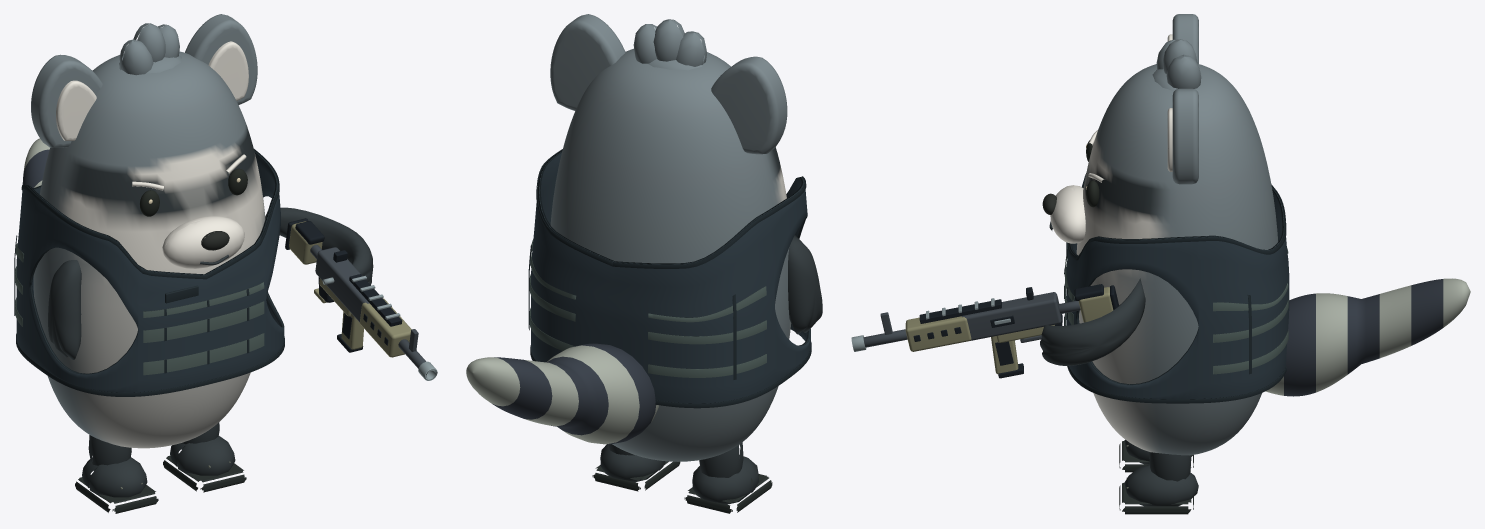
File: fitted-species-raccoon-ready-preview.glb
3 renders of one model, left to right at view 1: azimuth 30°, elevation 25°; view 2: azimuth 150°, elevation 25°; view 3: azimuth 270°, elevation 25°, orthographic. The views are drawn at different scales.
Visible parts, largest first — view 1: raccoon_ready_after_raccoon_torso_mesh, raccoon_ready_after_raccoon_vest_refined_mesh, raccoon_ready_after_raccoon_leftEar_mesh, raccoon_ready_after_raccoon_leftFoot_mesh, raccoon_ready_after_raccoon_rightEar_mesh, raccoon_ready_after_raccoon_snout_mesh, raccoon_ready_after_raccoon_rightFoot_mesh, raccoon_ready_after_prop_m4_m4 painted furniture, raccoon_ready_after_raccoon_leftArm_mesh, raccoon_ready_after_raccoon_crestShort_mesh, raccoon_ready_after_prop_m4_Cerakote graphite, raccoon_ready_after_raccoon_rightArm_mesh (+3 smaller); view 2: raccoon_ready_after_raccoon_torso_mesh, raccoon_ready_after_raccoon_vest_refined_mesh, raccoon_ready_after_raccoon_tail_mesh, raccoon_ready_after_raccoon_leftEar_mesh, raccoon_ready_after_raccoon_rightEar_mesh, raccoon_ready_after_raccoon_leftFoot_mesh, raccoon_ready_after_raccoon_crestShort_mesh, raccoon_ready_after_raccoon_leftArm_mesh, raccoon_ready_after_raccoon_rightFoot_mesh; view 3: raccoon_ready_after_raccoon_torso_mesh, raccoon_ready_after_raccoon_vest_refined_mesh, raccoon_ready_after_raccoon_tail_mesh, raccoon_ready_after_raccoon_rightArm_mesh, raccoon_ready_after_raccoon_rightFoot_mesh, raccoon_ready_after_prop_m4_Cerakote graphite, raccoon_ready_after_prop_m4_m4 painted furniture, raccoon_ready_after_raccoon_rightEar_mesh, raccoon_ready_after_prop_m4_Recesses and rubber, raccoon_ready_after_raccoon_crestShort_mesh, raccoon_ready_after_raccoon_snout_mesh, raccoon_ready_after_raccoon_leftEar_mesh (+1 smaller).
Part boxes in pixels (bbox=[...]): raccoon_ready_after_raccoon_torso_mesh: bbox=[33, 51, 265, 448]; raccoon_ready_after_raccoon_vest_refined_mesh: bbox=[14, 149, 284, 396]; raccoon_ready_after_raccoon_leftEar_mesh: bbox=[31, 54, 102, 147]; raccoon_ready_after_raccoon_leftFoot_mesh: bbox=[75, 435, 158, 513]; raccoon_ready_after_raccoon_rightEar_mesh: bbox=[185, 14, 257, 104]; raccoon_ready_after_raccoon_snout_mesh: bbox=[162, 216, 244, 268]; raccoon_ready_after_raccoon_rightFoot_mesh: bbox=[163, 422, 246, 492]; raccoon_ready_after_prop_m4_m4 painted furniture: bbox=[289, 221, 411, 357]; raccoon_ready_after_raccoon_leftArm_mesh: bbox=[48, 260, 81, 359]; raccoon_ready_after_raccoon_crestShort_mesh: bbox=[119, 23, 181, 75]; raccoon_ready_after_prop_m4_Cerakote graphite: bbox=[310, 245, 425, 368]; raccoon_ready_after_raccoon_rightArm_mesh: bbox=[265, 207, 373, 284]; raccoon_ready_after_raccoon_torso_mesh: bbox=[550, 48, 791, 461]; raccoon_ready_after_raccoon_vest_refined_mesh: bbox=[528, 149, 811, 408]; raccoon_ready_after_raccoon_tail_mesh: bbox=[466, 343, 659, 444]; raccoon_ready_after_raccoon_leftEar_mesh: bbox=[711, 56, 787, 154]; raccoon_ready_after_raccoon_rightEar_mesh: bbox=[550, 14, 625, 110]; raccoon_ready_after_raccoon_leftFoot_mesh: bbox=[684, 442, 772, 513]; raccoon_ready_after_raccoon_crestShort_mesh: bbox=[633, 19, 706, 70]; raccoon_ready_after_raccoon_leftArm_mesh: bbox=[788, 235, 822, 334]; raccoon_ready_after_raccoon_rightFoot_mesh: bbox=[592, 444, 680, 491]; raccoon_ready_after_raccoon_torso_mesh: bbox=[1076, 63, 1277, 455]; raccoon_ready_after_raccoon_vest_refined_mesh: bbox=[1064, 173, 1289, 403]; raccoon_ready_after_raccoon_tail_mesh: bbox=[1265, 278, 1470, 396]; raccoon_ready_after_raccoon_rightArm_mesh: bbox=[1040, 278, 1145, 365]; raccoon_ready_after_raccoon_rightFoot_mesh: bbox=[1119, 452, 1198, 514]; raccoon_ready_after_prop_m4_Cerakote graphite: bbox=[863, 292, 1080, 347]; raccoon_ready_after_prop_m4_m4 painted furniture: bbox=[905, 287, 1113, 374]; raccoon_ready_after_raccoon_rightEar_mesh: bbox=[1167, 88, 1198, 184]; raccoon_ready_after_prop_m4_Recesses and rubber: bbox=[913, 284, 1118, 378]; raccoon_ready_after_raccoon_crestShort_mesh: bbox=[1152, 39, 1202, 90]; raccoon_ready_after_raccoon_snout_mesh: bbox=[1042, 185, 1085, 243]; raccoon_ready_after_raccoon_leftEar_mesh: bbox=[1167, 14, 1198, 63].
Size of the model in its own units: 1.3 by 1.98 by 2.5.
